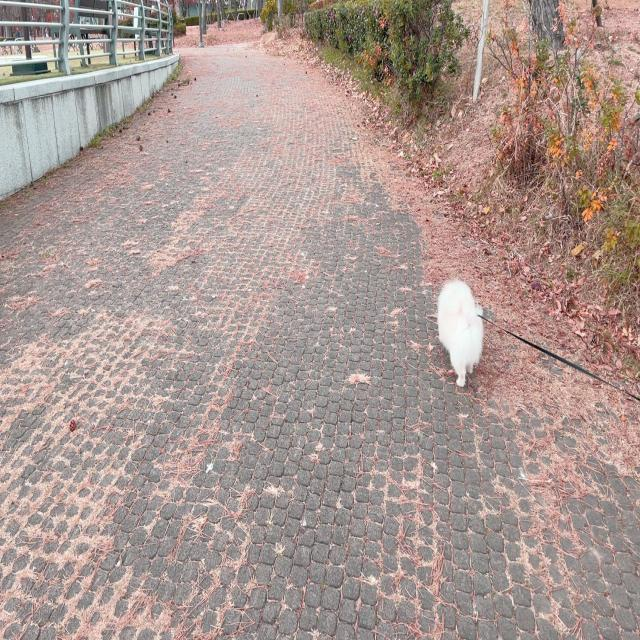Dog: (437, 279, 484, 388)
